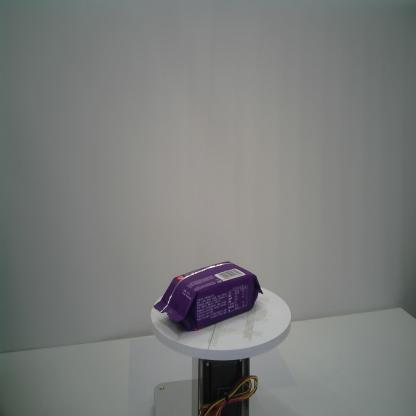Dessert: (152, 260, 264, 332)
